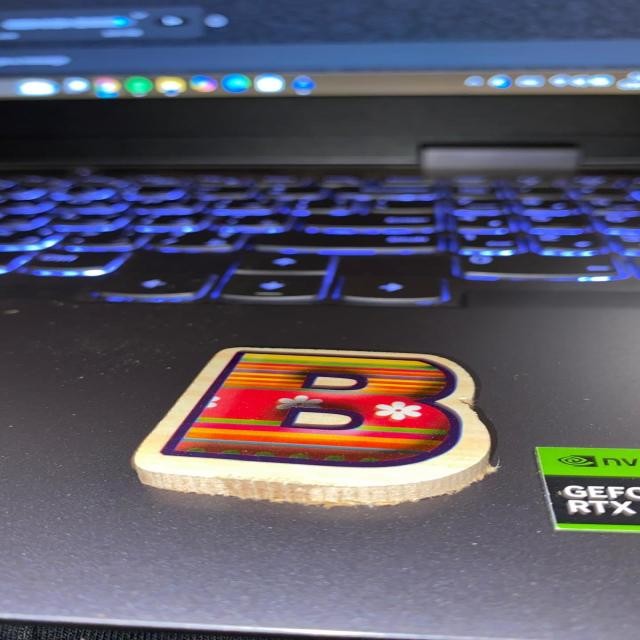B: (133, 347, 492, 506)
